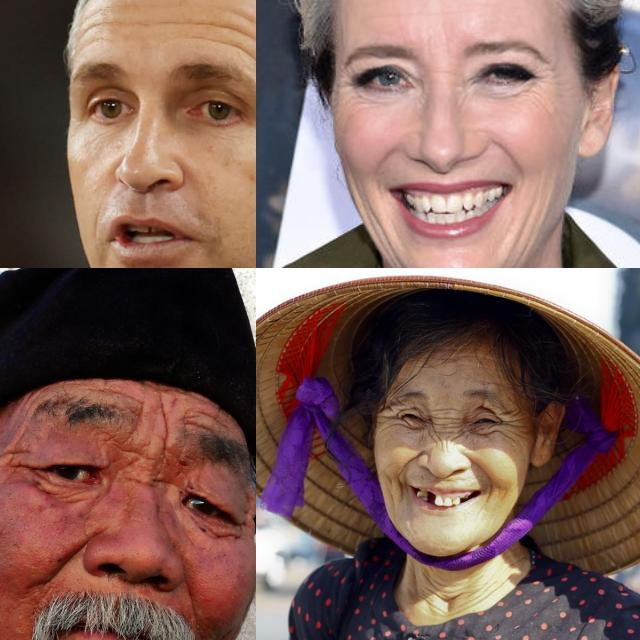bunny_line: (427, 426, 447, 448)
crows_feet: (0, 440, 38, 492), (533, 62, 563, 110), (334, 75, 356, 108), (501, 412, 521, 442), (380, 404, 398, 428)
forehead: (89, 381, 141, 407), (184, 407, 232, 435), (225, 5, 256, 39), (80, 17, 108, 48), (192, 18, 222, 46), (156, 11, 187, 35), (225, 38, 256, 59), (456, 348, 488, 362)
frown_line: (112, 436, 144, 472), (153, 412, 173, 458), (434, 414, 462, 436), (434, 404, 462, 412)
gummy_smile: (48, 532, 86, 582), (492, 136, 528, 174), (368, 138, 404, 172), (178, 571, 198, 627), (398, 446, 424, 478), (472, 458, 496, 488)
masseter: (352, 184, 392, 256), (512, 203, 542, 263), (380, 471, 396, 505)
sad_smile: (396, 482, 406, 508)
